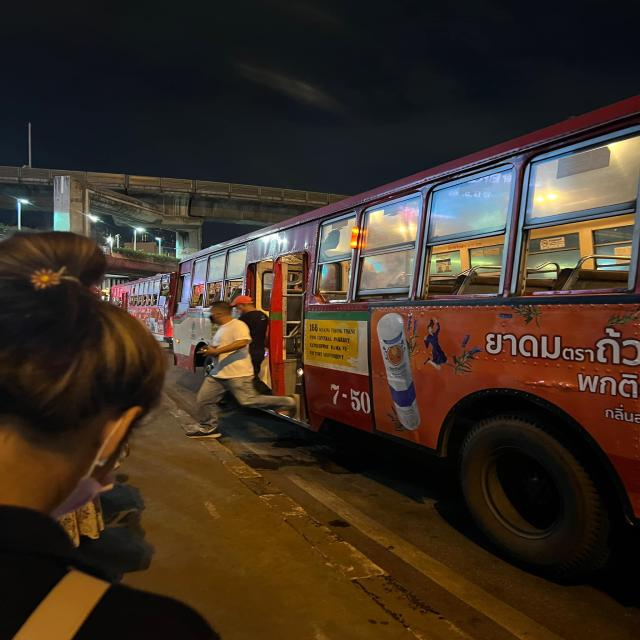BMTA-bus: (170, 91, 640, 588), (110, 270, 173, 343)
